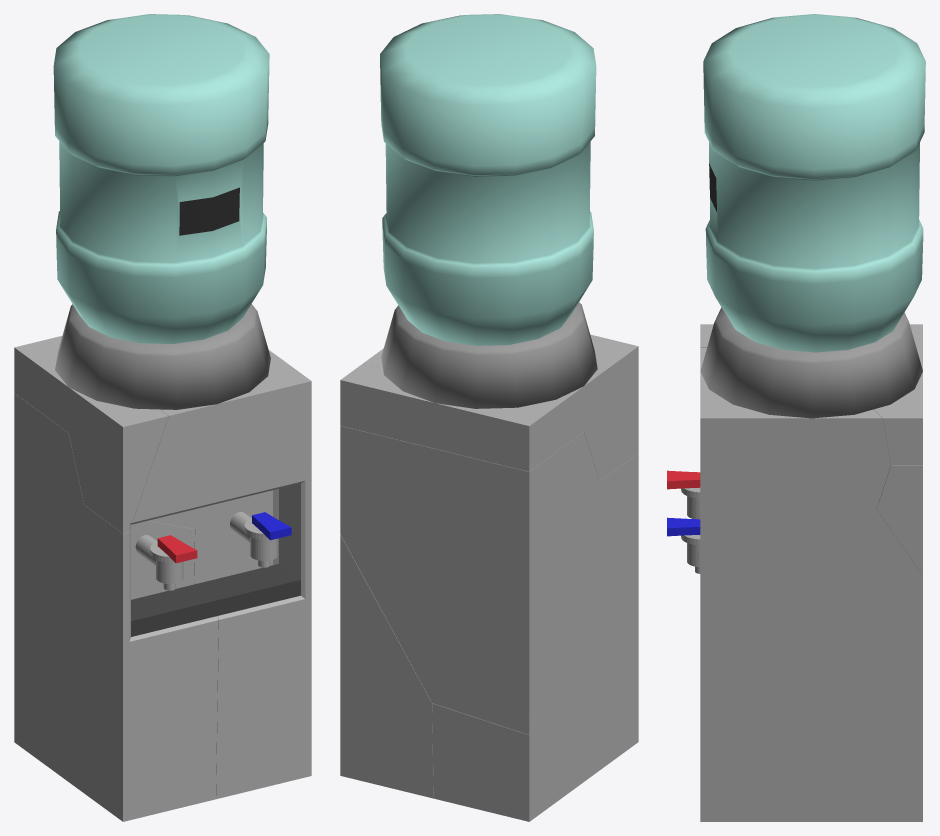
The model's file is DispensadorDeAgua.fbx.
3 renders of one model, left to right at view 1: azimuth 30°, elevation 25°; view 2: azimuth 150°, elevation 25°; view 3: azimuth 270°, elevation 25°, orthographic. The views are drawn at different scales.
Parts seen in each view (by area): view 1: Cylinder.028, Cube.009_cell.002, Cube.009_cell.005, Cube.009_cell, Cylinder.027, Cube.009_cell.004, Cube.009_cell.003, Cube.011, Cube.009_cell.001, Cylinder.025, Cube.010, Cylinder.024; view 2: Cylinder.028, Cube.009_cell.004, Cube.009_cell.002, Cube.009_cell.005, Cylinder.027, Cube.009_cell.001, Cube.009_cell.003; view 3: Cube.009_cell.005, Cylinder.028, Cube.009_cell, Cylinder.027, Cube.009_cell.004, Cube.009_cell.001, Cube.010, Cylinder.025.
Part boxes in pixels (<box>): Cylinder.028: <box>53,14,269,343</box>; Cube.009_cell.002: <box>14,504,218,821</box>; Cube.009_cell.005: <box>194,470,311,799</box>; Cube.009_cell: <box>129,349,311,531</box>; Cylinder.027: <box>55,304,270,409</box>; Cube.009_cell.004: <box>14,393,83,654</box>; Cube.009_cell.003: <box>68,387,168,533</box>; Cube.011: <box>131,564,300,636</box>; Cube.009_cell.001: <box>14,336,68,432</box>; Cylinder.025: <box>150,519,277,583</box>; Cube.010: <box>157,512,291,563</box>; Cylinder.024: <box>135,512,251,565</box>; Cylinder.028: <box>380,14,596,345</box>; Cube.009_cell.004: <box>340,426,599,734</box>; Cube.009_cell.002: <box>432,453,638,821</box>; Cube.009_cell.005: <box>340,534,433,798</box>; Cylinder.027: <box>381,302,597,408</box>; Cube.009_cell.001: <box>340,365,583,471</box>; Cube.009_cell.003: <box>584,335,638,480</box>; Cube.009_cell.005: <box>700,509,922,821</box>; Cylinder.028: <box>703,14,925,352</box>; Cube.009_cell: <box>700,347,890,509</box>; Cylinder.027: <box>700,307,922,418</box>; Cube.009_cell.004: <box>876,465,922,575</box>; Cube.009_cell.001: <box>874,324,922,464</box>; Cube.010: <box>667,470,700,536</box>; Cylinder.025: <box>681,487,700,567</box>.
Size of the model in its own units: 136 by 489 by 159.
